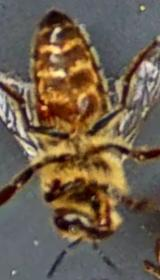varroa_mite: (22, 90, 58, 124)
